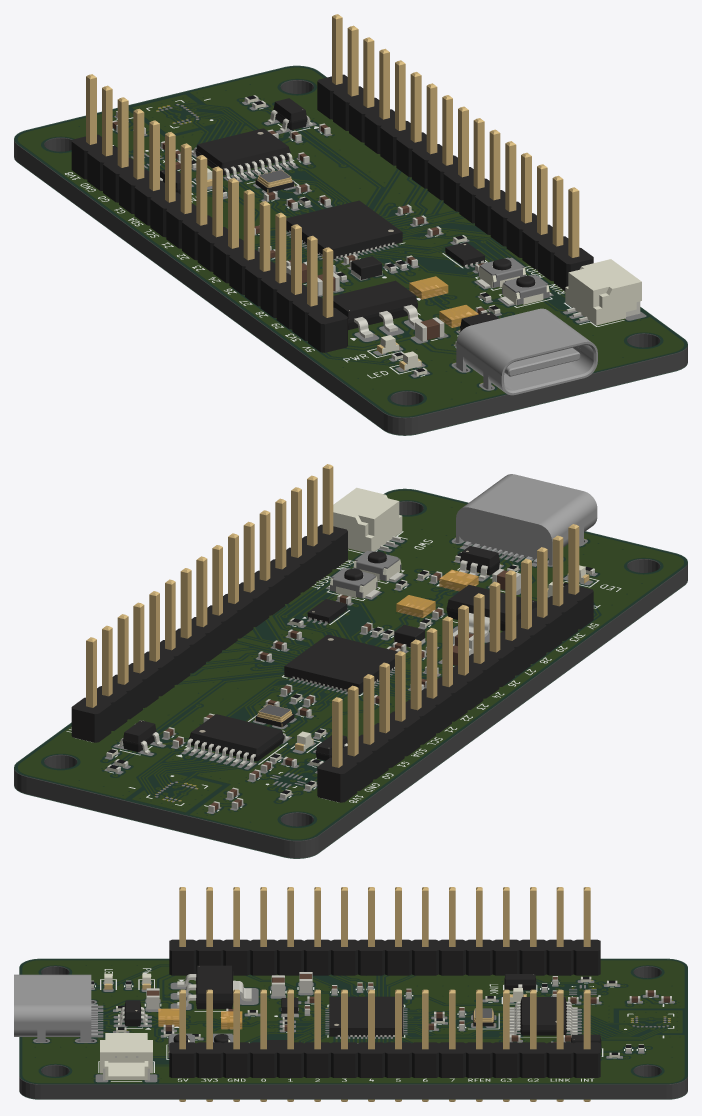
File: board.glb
3 views of the same model, one above another, from view 1: azimuth 30°, elevation 25°; view 2: azimuth 150°, elevation 25°; view 3: azimuth 270°, elevation 25° (orthographic). The views are drawn at different scales.
Visible parts, largest first — view 1: comms_soldermask (×2), PinHeader_1x16_P2.54mm_Vertical (×2), comms_copper, comms_PCB, HRO_TYPE-C-31-M-12, QFN-56-1EP_7x7mm_P0.4mm_EP5.6x5.6mm, JST_SH_SM03B-SRSS-TB_1x03-1MP_P1.00mm_Horizontal, TSSOP-20_4.4x6.5mm_P0.65mm, SOT-223, comms_pad, SW_SPST_B3U-1000P (×2), comms_silkscreen (+4 smaller); view 2: comms_soldermask (×2), PinHeader_1x16_P2.54mm_Vertical (×2), comms_copper, comms_PCB, HRO_TYPE-C-31-M-12, QFN-56-1EP_7x7mm_P0.4mm_EP5.6x5.6mm, JST_SH_SM03B-SRSS-TB_1x03-1MP_P1.00mm_Horizontal, TSSOP-20_4.4x6.5mm_P0.65mm, comms_pad, SW_SPST_B3U-1000P (×2), comms_silkscreen, SOT-223 (+6 smaller); view 3: PinHeader_1x16_P2.54mm_Vertical (×2), comms_soldermask (×2), comms_copper, comms_PCB, HRO_TYPE-C-31-M-12, comms_pad, JST_SH_SM03B-SRSS-TB_1x03-1MP_P1.00mm_Horizontal, QFN-56-1EP_7x7mm_P0.4mm_EP5.6x5.6mm, SOT-223, TSSOP-20_4.4x6.5mm_P0.65mm, comms_silkscreen, SOT-23-6 (+2 smaller).
Boxes of the visible parts, x1,y1,x2,y2 form: comms_soldermask (×2): (14, 65, 687, 435); PinHeader_1x16_P2.54mm_Vertical (×2): (71, 14, 593, 352); comms_copper: (18, 68, 683, 415); comms_PCB: (14, 67, 687, 435); HRO_TYPE-C-31-M-12: (456, 308, 597, 395); QFN-56-1EP_7x7mm_P0.4mm_EP5.6x5.6mm: (286, 200, 402, 258); JST_SH_SM03B-SRSS-TB_1x03-1MP_P1.00mm_Horizontal: (565, 259, 641, 325); TSSOP-20_4.4x6.5mm_P0.65mm: (191, 128, 295, 179); SOT-223: (333, 280, 421, 338); comms_pad: (112, 99, 646, 390); SW_SPST_B3U-1000P (×2): (476, 257, 551, 305); comms_silkscreen: (65, 98, 624, 378); comms_soldermask (×2): (14, 488, 687, 858); PinHeader_1x16_P2.54mm_Vertical (×2): (71, 464, 593, 802); comms_copper: (18, 491, 683, 838); comms_PCB: (14, 490, 687, 858); HRO_TYPE-C-31-M-12: (456, 474, 597, 565); QFN-56-1EP_7x7mm_P0.4mm_EP5.6x5.6mm: (284, 634, 397, 694); JST_SH_SM03B-SRSS-TB_1x03-1MP_P1.00mm_Horizontal: (333, 487, 402, 552); TSSOP-20_4.4x6.5mm_P0.65mm: (184, 714, 289, 767); comms_pad: (104, 537, 597, 813); SW_SPST_B3U-1000P (×2): (328, 550, 403, 598); comms_silkscreen: (66, 531, 621, 811); SOT-223: (446, 585, 536, 636); PinHeader_1x16_P2.54mm_Vertical (×2): (169, 887, 600, 1101); comms_soldermask (×2): (19, 958, 687, 1099); comms_copper: (23, 961, 683, 1082); comms_PCB: (19, 959, 687, 1099); HRO_TYPE-C-31-M-12: (14, 974, 97, 1042); comms_pad: (33, 980, 674, 1082); JST_SH_SM03B-SRSS-TB_1x03-1MP_P1.00mm_Horizontal: (100, 1033, 152, 1080); QFN-56-1EP_7x7mm_P0.4mm_EP5.6x5.6mm: (329, 996, 403, 1036); SOT-223: (177, 965, 251, 1009); TSSOP-20_4.4x6.5mm_P0.65mm: (509, 997, 577, 1035); comms_silkscreen: (95, 968, 674, 1081); SOT-23-6: (118, 1000, 147, 1026).
Bounding box in the file's own units: 0.028 × 0.0115 × 0.0635.
